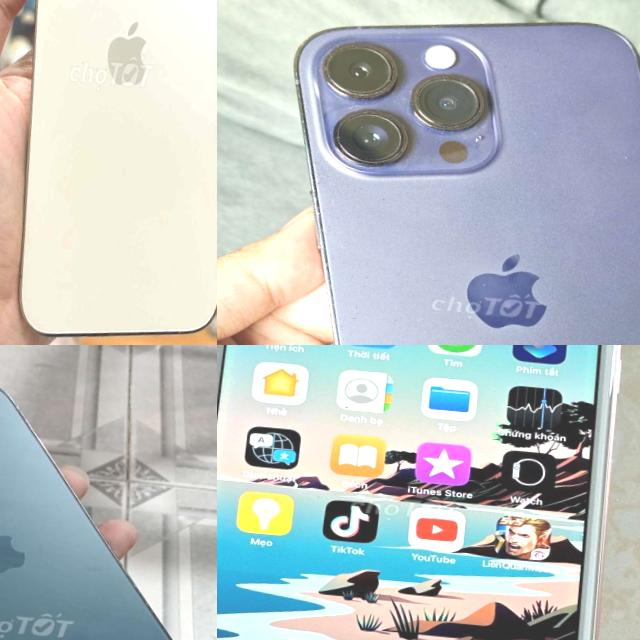gen_12_13: (1, 0, 217, 345), (0, 361, 214, 640)
gen_14: (250, 0, 640, 345)
gen_7_8: (217, 345, 620, 640)
scratch: (313, 90, 418, 190), (398, 67, 498, 152), (300, 32, 408, 110), (456, 270, 496, 331), (376, 191, 393, 206)
